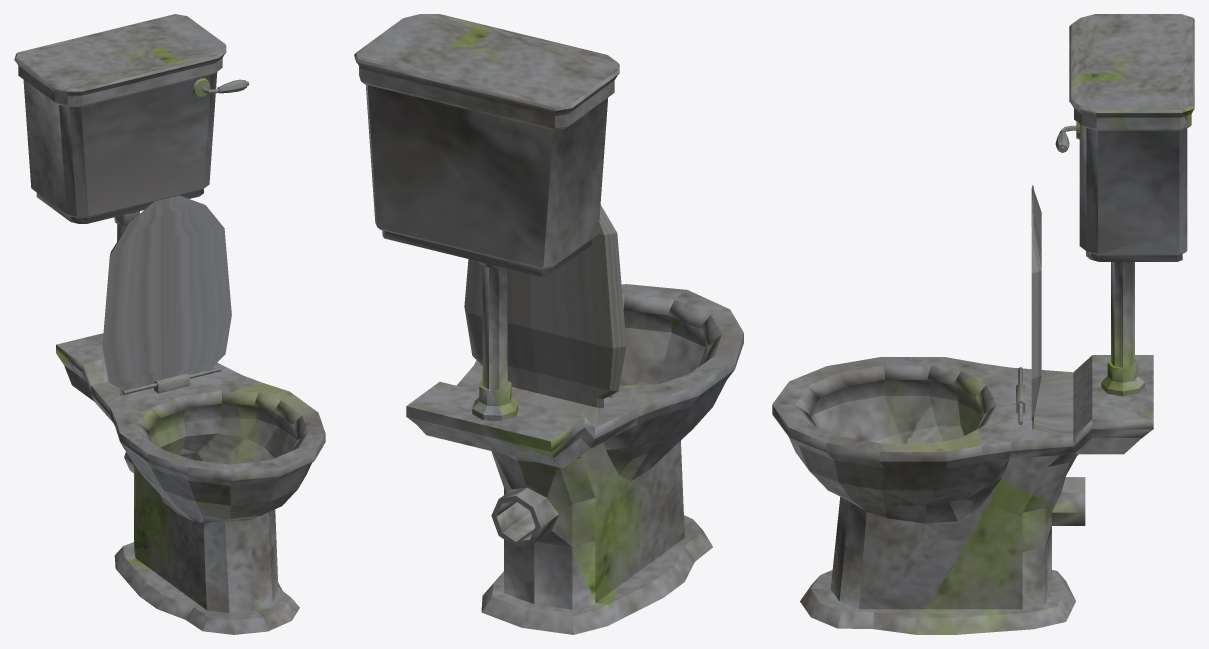
File: toilet .fbx
3 renders of one model, left to right at view 1: azimuth 30°, elevation 25°; view 2: azimuth 150°, elevation 25°; view 3: azimuth 270°, elevation 25°, orthographic. The views are drawn at different scales.
Visible parts, largest first — view 1: Toilet.001; view 2: Toilet.001; view 3: Toilet.001.
Part boxes in pixels (bbox=[...]): Toilet.001: bbox=[14, 14, 325, 634]; Toilet.001: bbox=[354, 14, 743, 634]; Toilet.001: bbox=[772, 14, 1194, 634].
Bounding box in the file's own units: 2.77 × 6.89 × 4.88.
